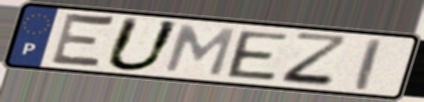E: (47, 10, 119, 72), (225, 29, 292, 83)
I: (353, 36, 385, 93)
M: (161, 23, 239, 79)
U: (101, 14, 184, 73)
Z: (278, 31, 353, 90)
